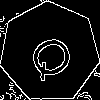Q: (24, 27, 85, 85)
